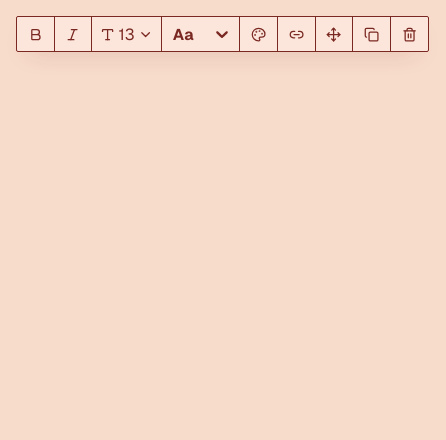
Test: FloatingOperationToolbar › injects a non-standard current font size into the options list
The image size is (446, 440).
Click the button named "Font size 13" at point(127, 34), box [92,17,162,51]
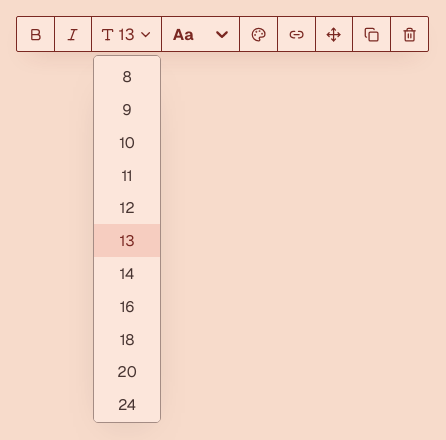
Check: the menu item "13" is shown, box [94,224,160,257]
